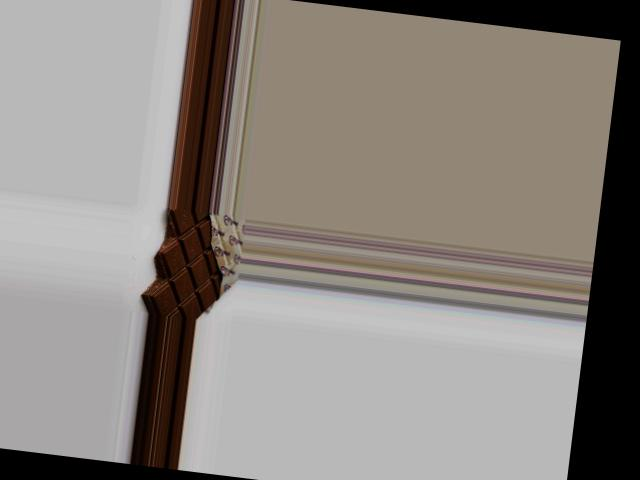chocolate: (148, 206, 245, 322)
